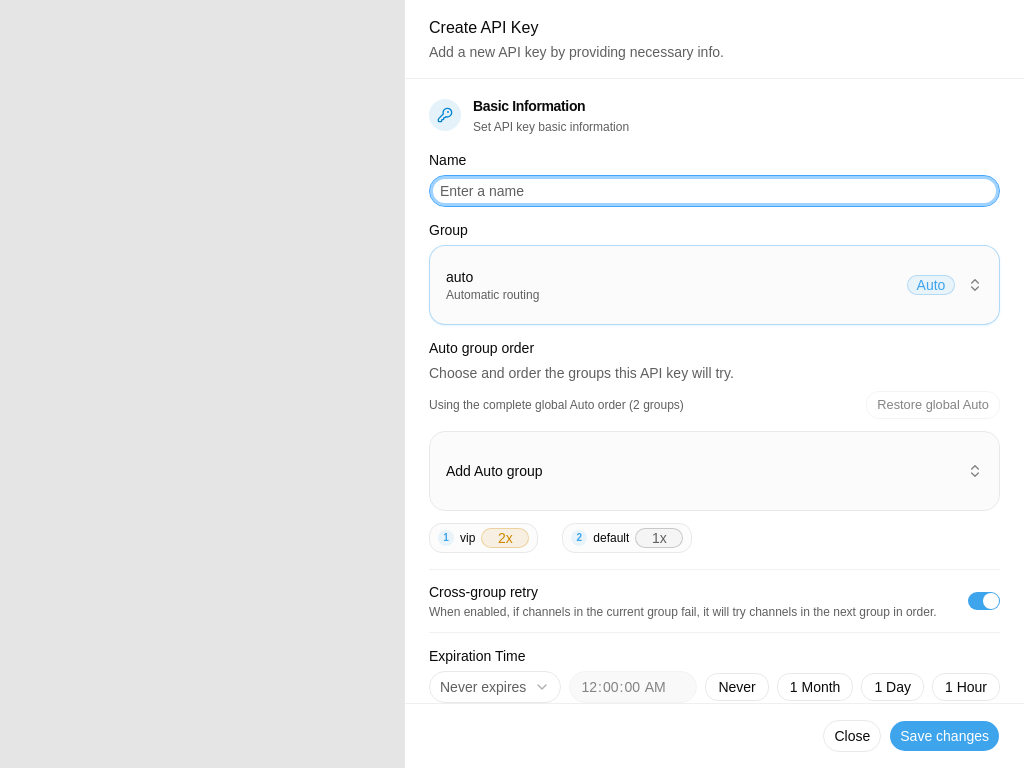
Test: shows administrator group order without changing the selected Auto routing policy
Expected: the button "Save changes" is enabled, [889,720,1000,752]
Step 1. Click the dropdown labelled "auto Automatic routing Auto" → point(493, 295), box [429,245,1000,325]
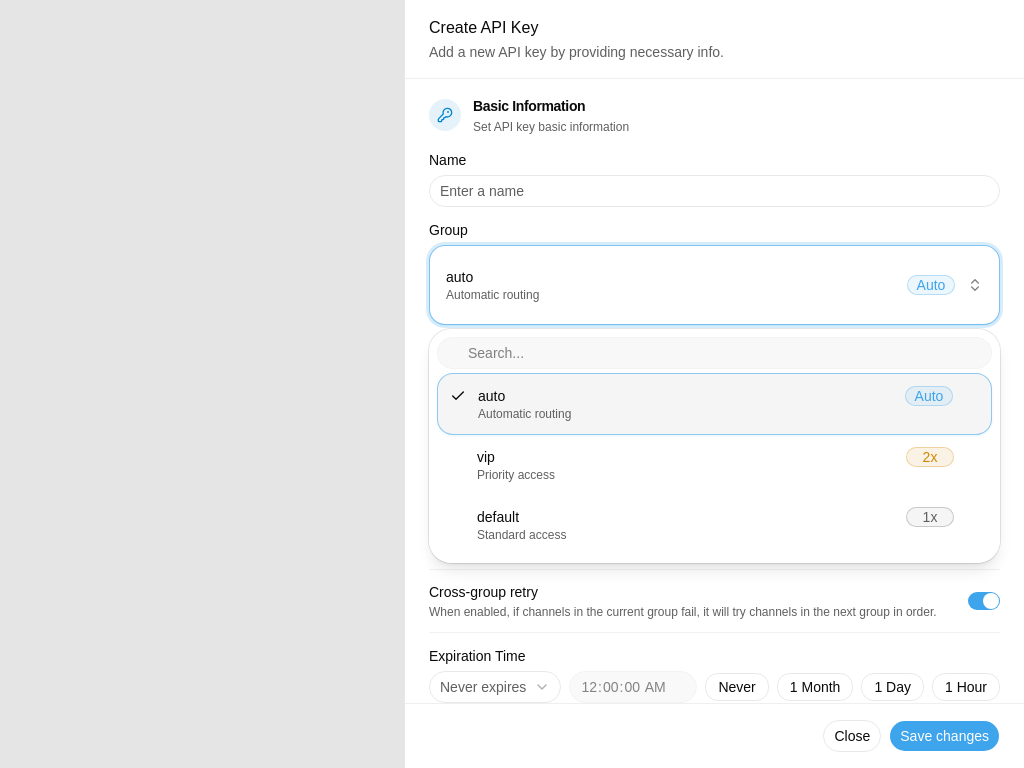
Expected: the number of options is 3, [437,373,992,435]; [477,447,954,482]; [477,507,954,542]
Expected: the option "auto Automatic routing Auto" is shown, [437,373,992,435]
Expected: the option "vip Priority access 2x" is shown, [477,447,954,482]
